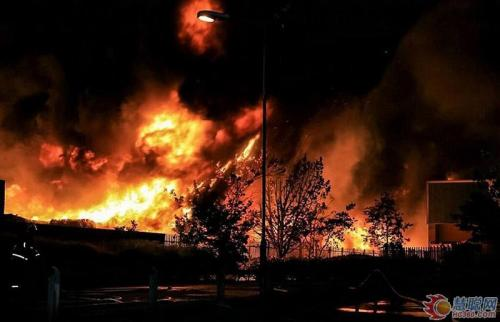fire: (34, 126, 225, 226)
smoke: (49, 2, 380, 113)
